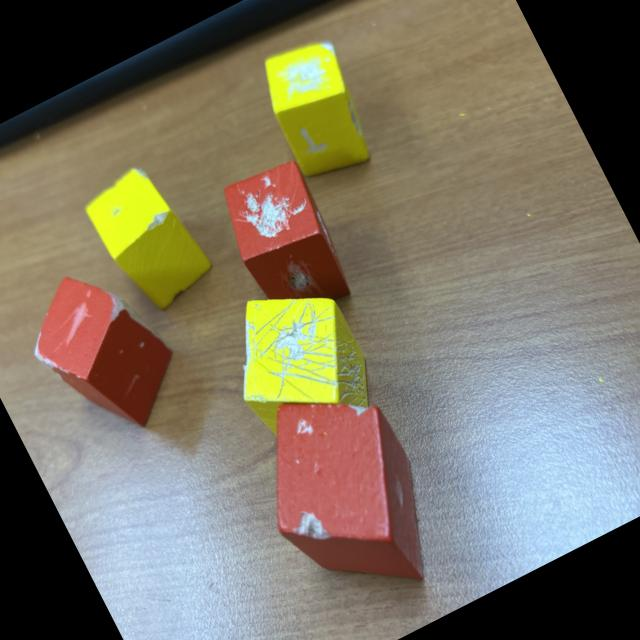broken: (228, 363, 462, 630), (10, 248, 199, 458), (204, 264, 388, 458), (209, 152, 362, 332), (76, 155, 223, 323), (246, 28, 388, 192)
